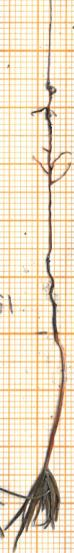flower: (0, 462, 74, 553)
root: (34, 0, 74, 334)
stem: (40, 329, 74, 469)
